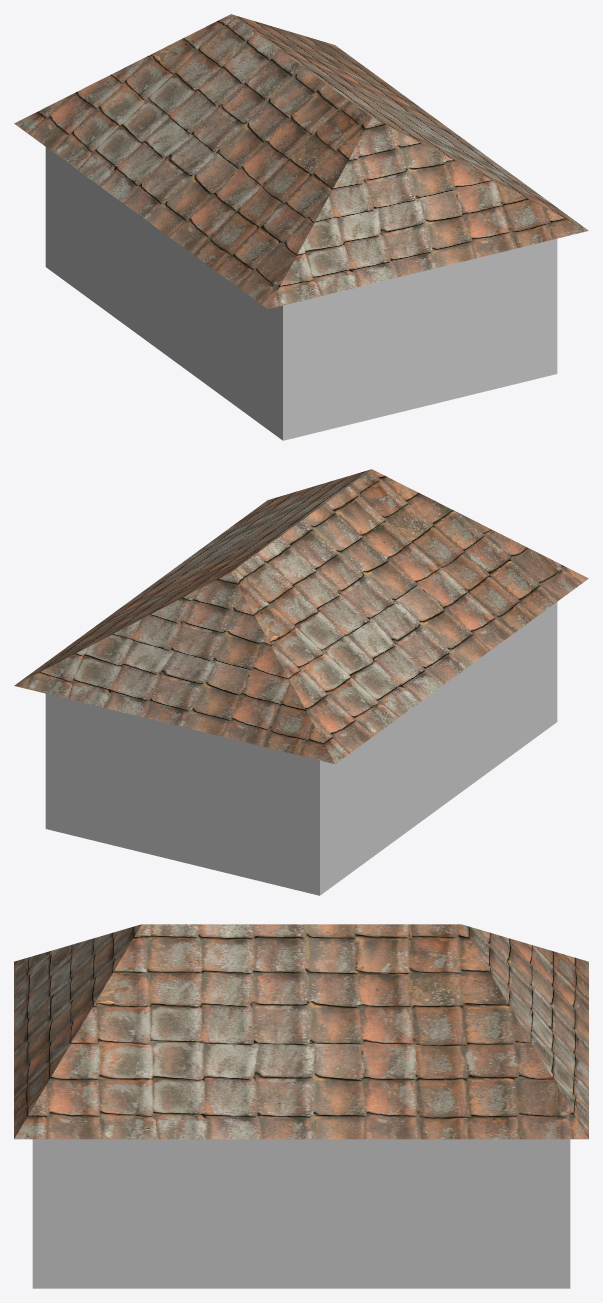
Rendered from house-1.glb.
3 renders of one model, top to bottom at view 1: azimuth 30°, elevation 25°; view 2: azimuth 150°, elevation 25°; view 3: azimuth 270°, elevation 25°, orthographic. The views are drawn at different scales.
Parts seen in each view (by area): view 1: roof-3, wall-3; view 2: roof-3, wall-3; view 3: roof-3, wall-3.
Boxes of the visible parts, box(x1,y1,x2,y2) form: roof-3: box(14, 14, 588, 308); wall-3: box(45, 147, 557, 440); roof-3: box(14, 469, 588, 763); wall-3: box(45, 602, 557, 895); roof-3: box(14, 924, 588, 1139); wall-3: box(32, 1139, 570, 1288).
Size of what is drawn, in the model's own units: 4.69 by 3.56 by 6.42.
Materials: 1 (1 with a texture image).
